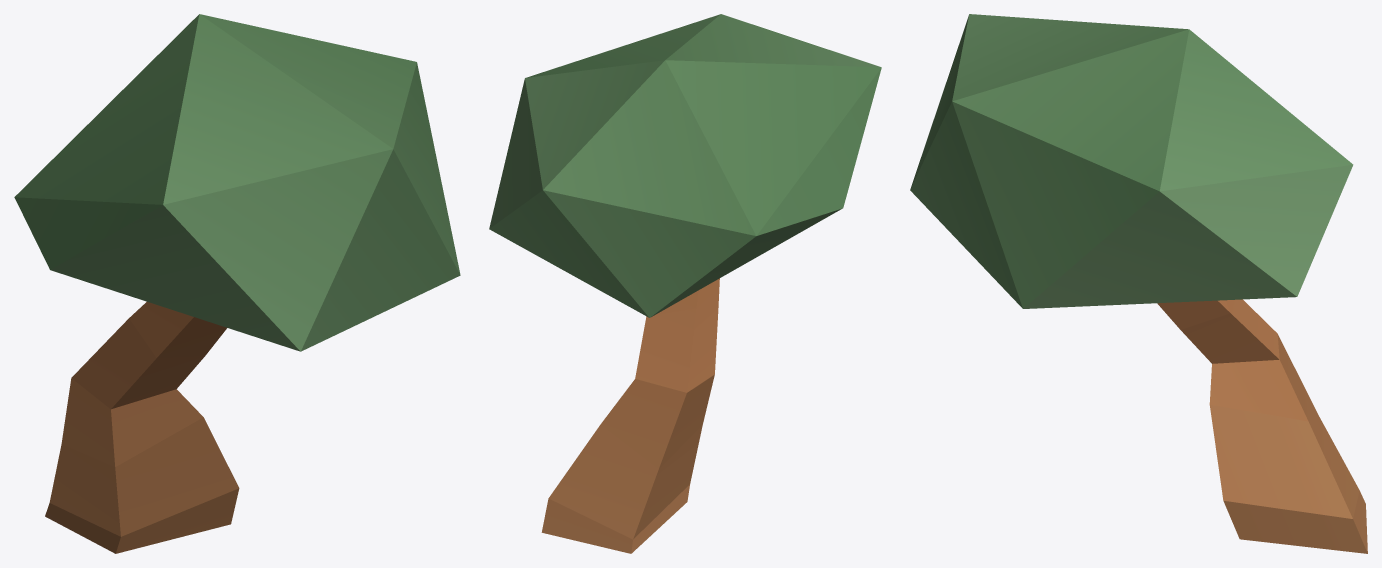
File: pohon 1.fbx
3 renders of one model, left to right at view 1: azimuth 30°, elevation 25°; view 2: azimuth 150°, elevation 25°; view 3: azimuth 270°, elevation 25°, orthographic. The views are drawn at different scales.
Visible parts, largest first — view 1: pohon 1; view 2: pohon 1; view 3: pohon 1.
Part boxes in pixels (left/top/right/bottom): pohon 1: left=14, top=14, right=460, bottom=553; pohon 1: left=489, top=14, right=881, bottom=553; pohon 1: left=910, top=14, right=1367, bottom=553.
Size of the model in its own units: 126 by 172 by 143.
